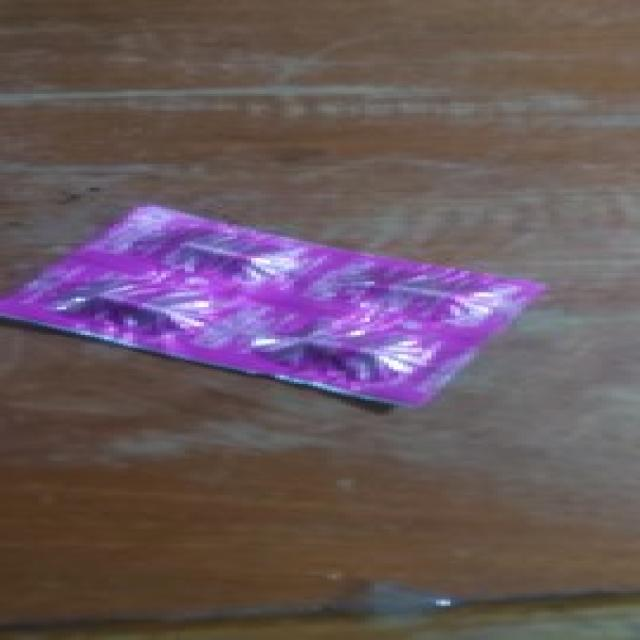Cacat: (0, 203, 559, 412)
